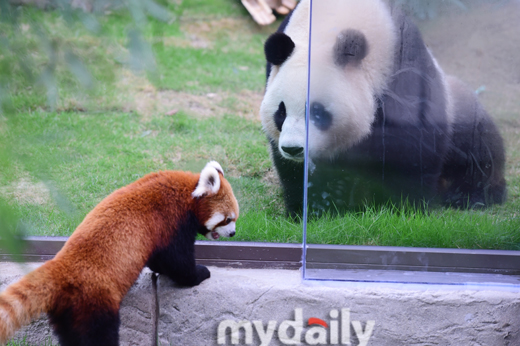redPanda: (0, 160, 245, 346)
